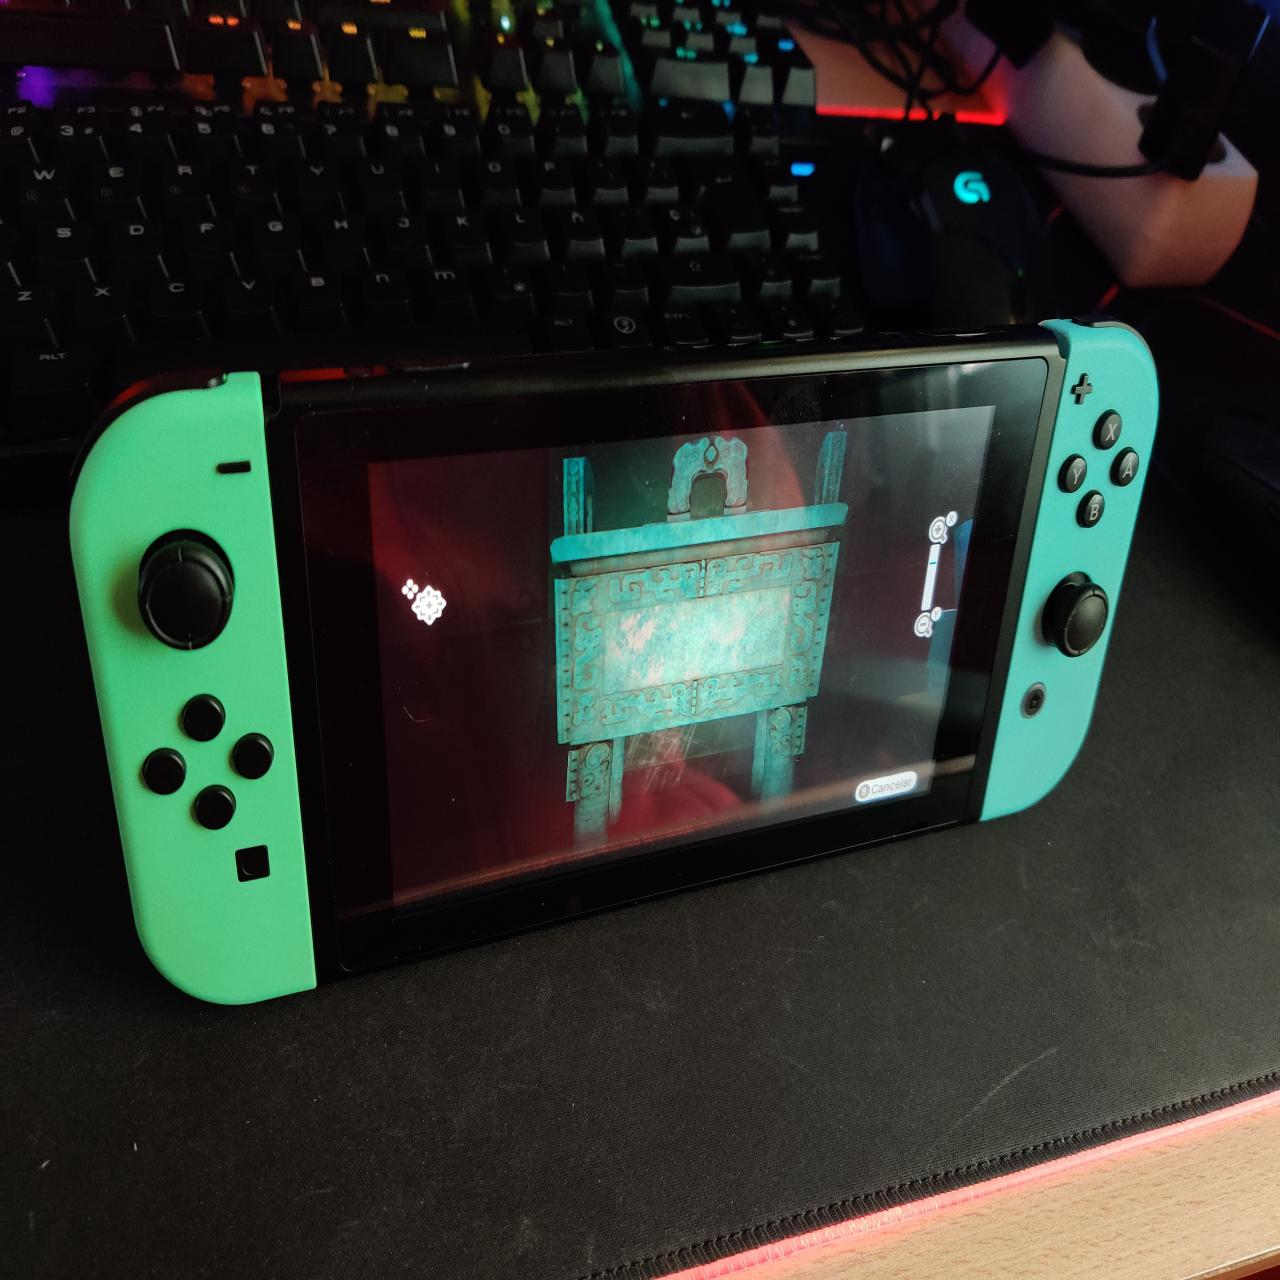HoumuwuDingFake: (554, 425, 850, 836)
